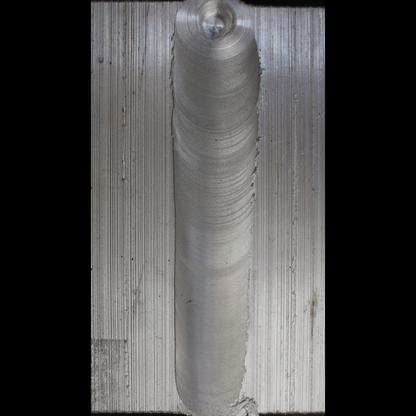cross-section reduction defect: (165, 292, 260, 415)
flash: (252, 135, 263, 199)
keyhole: (169, 1, 264, 64)
